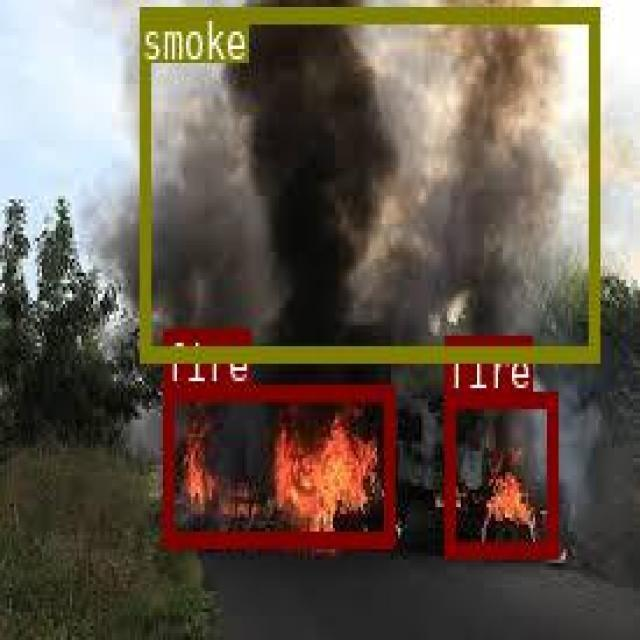fire: (161, 384, 393, 544), (444, 392, 554, 555)
smoke: (138, 5, 596, 360)
